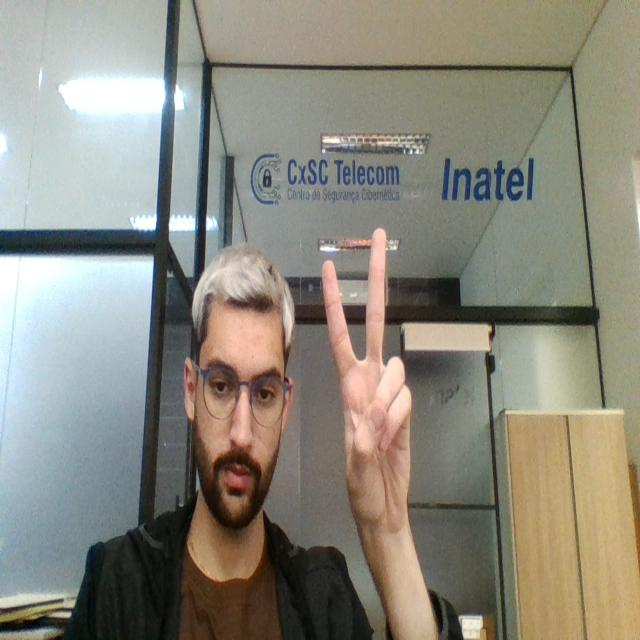V: (317, 212, 415, 546)
